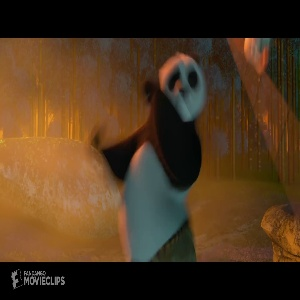po: (92, 49, 207, 263)
